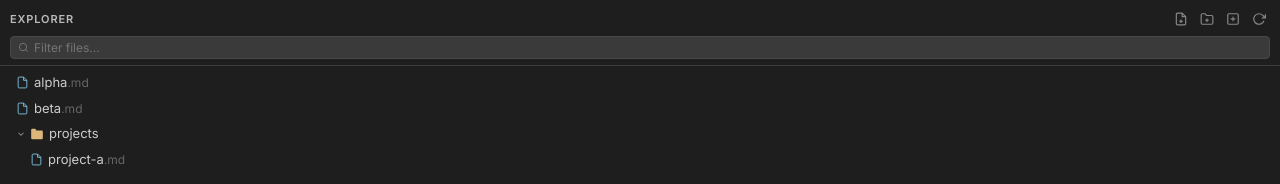
Test case: FileTree › search / filter › filters files when local filter is typed
The image size is (1280, 184).
Expected: the text "alpha" is shown, [34,74,67,90]
Step 1. Type "alpha" into the field with placeholder "Filter files..." → [648, 48], box [34,40,1262,55]
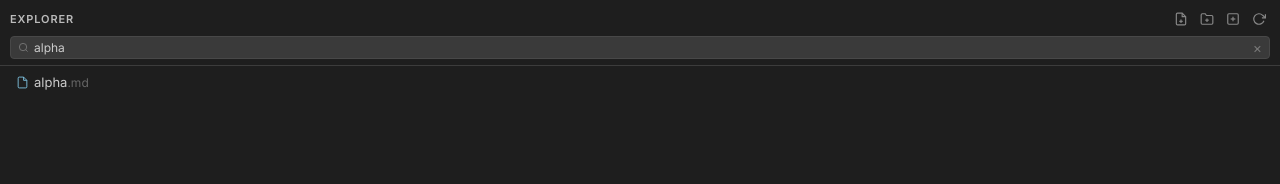
Expected: the text "alpha" is shown, [34,74,67,90]
Expected: the text "beta" is gone
